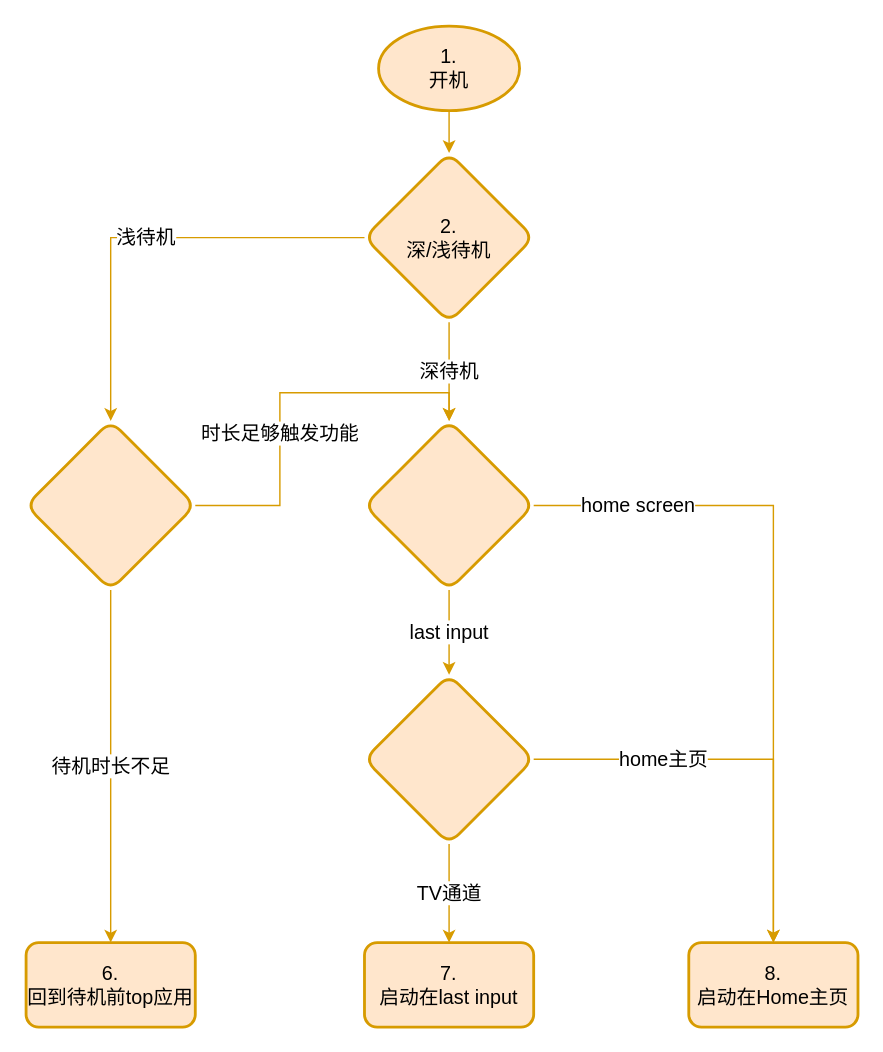
This 883x1052 diagram has some shape labels left out. The centre of each missing label's shape, as x and y in pixels:
"3. 待机时长足够" belongs at [110,505].
"4. power on behavior" belongs at [448,505].
"5. 待机前通道" belongs at [448,759].
